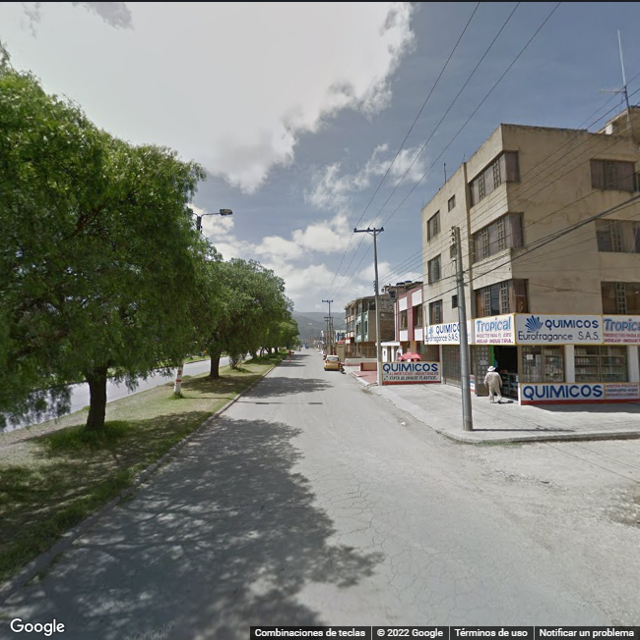D00: (346, 468, 382, 524)
D10: (327, 494, 368, 503)
D20: (376, 535, 517, 626)
